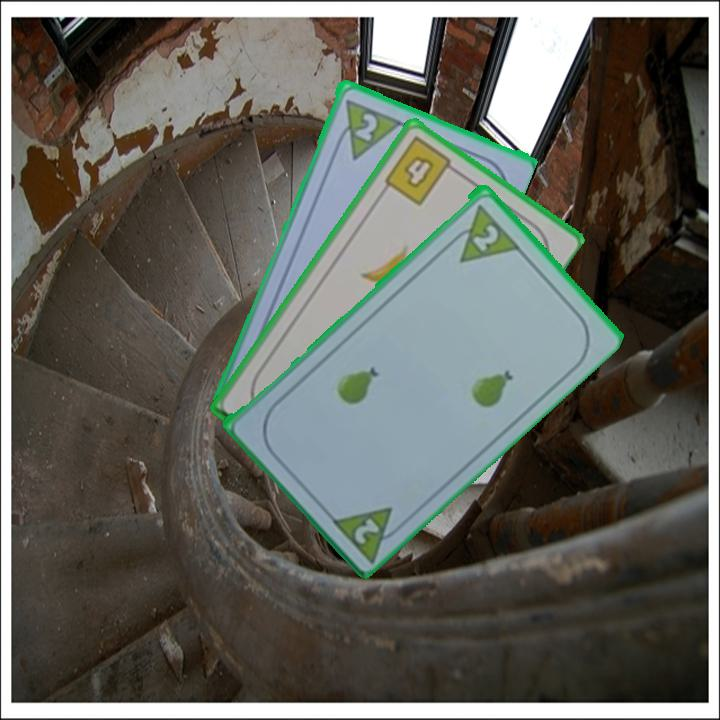2p: (442, 199, 521, 265), (329, 94, 402, 162), (350, 514, 383, 547)
4b: (380, 132, 461, 209)
